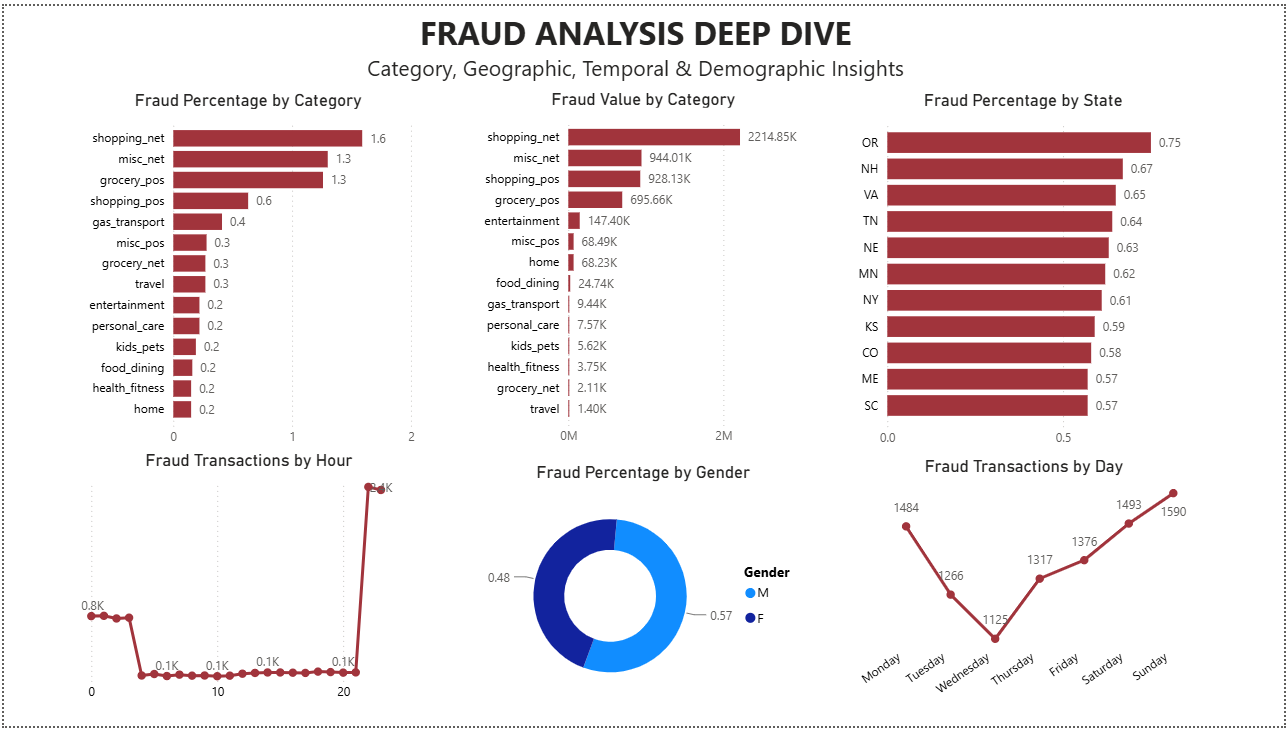

Layout of this report page (visuals, bound fields, positions):
{"tool":"powerbi","page":{"name":"Fraud Analysis Dashboard","canvas":[1280,720],"ordinal":1},"visuals":[{"type":"textbox","box":[72.7,0,1118.5,82.8],"z":0},{"type":"clusteredBarChart","title":"Fraud Percentage by Category","fields":{"Category":["fraud_analytics_db vw_category_analysis.category"],"Y":["Sum(fraud_analytics_db vw_category_analysis.fraud_rate_percentage)"]},"box":[72.1,83.2,343.6,365.6],"z":1000},{"type":"clusteredBarChart","title":"Fraud Value by Category","fields":{"Category":["fraud_analytics_db vw_category_analysis.category"],"Y":["Sum(fraud_analytics_db vw_category_analysis.total_fraud_value)"]},"box":[467.7,82.8,343.6,366.1],"z":2000},{"type":"clusteredBarChart","title":"Fraud Percentage by State","fields":{"Category":["fraud_analytics_db vw_geographic_analysis.state"],"Y":["Sum(fraud_analytics_db vw_geographic_analysis.fraud_rate_percentage)"]},"box":[847.7,84,343.6,366.1],"z":3000},{"type":"lineChart","title":"Fraud Transactions by Hour","fields":{"Category":["fraud_analytics_db vw_hourly_fraud_analysis.transaction_hour"],"Y":["Sum(fraud_analytics_db vw_hourly_fraud_analysis.fraud_transactions)"]},"box":[72.7,443.9,344.8,260.8],"z":4000},{"type":"lineChart","title":"Fraud Transactions by Day","fields":{"Category":["fraud_analytics_db vw_daily_fraud_analysis.transaction_day"],"Y":["Sum(fraud_analytics_db vw_daily_fraud_analysis.fraud_transactions)"]},"box":[847.7,450.2,344.8,260.8],"z":5000},{"type":"donutChart","title":"Fraud Percentage by Gender","fields":{"Category":["fraud_analytics_db vw_gender_analysis.gender"],"Y":["Sum(fraud_analytics_db vw_gender_analysis.fraud_rate_percentage)"]},"box":[467.7,456.4,343.6,248.3],"z":6000}]}

Visuals, with their boxes in screenshot pixels (x1, y1, x2, y2), scaled from the page's 1280x720 canvas onto the 1287x731 screenshot:
textbox: x1=73 y1=0 x2=1198 y2=84
"Fraud Percentage by Category" clusteredBarChart: x1=72 y1=84 x2=418 y2=456
"Fraud Value by Category" clusteredBarChart: x1=470 y1=84 x2=816 y2=456
"Fraud Percentage by State" clusteredBarChart: x1=852 y1=85 x2=1198 y2=457
"Fraud Transactions by Hour" lineChart: x1=73 y1=451 x2=420 y2=715
"Fraud Transactions by Day" lineChart: x1=852 y1=457 x2=1199 y2=722
"Fraud Percentage by Gender" donutChart: x1=470 y1=463 x2=816 y2=715
